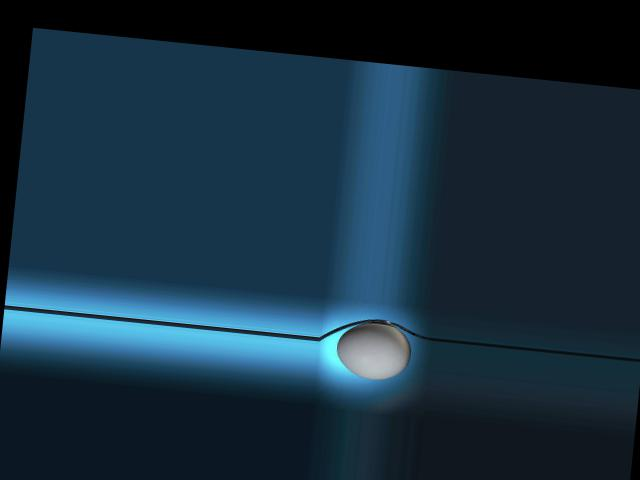egg: (334, 318, 413, 382)
